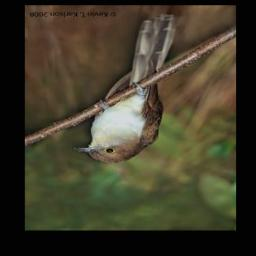Cuckoo: (76, 15, 178, 165)
